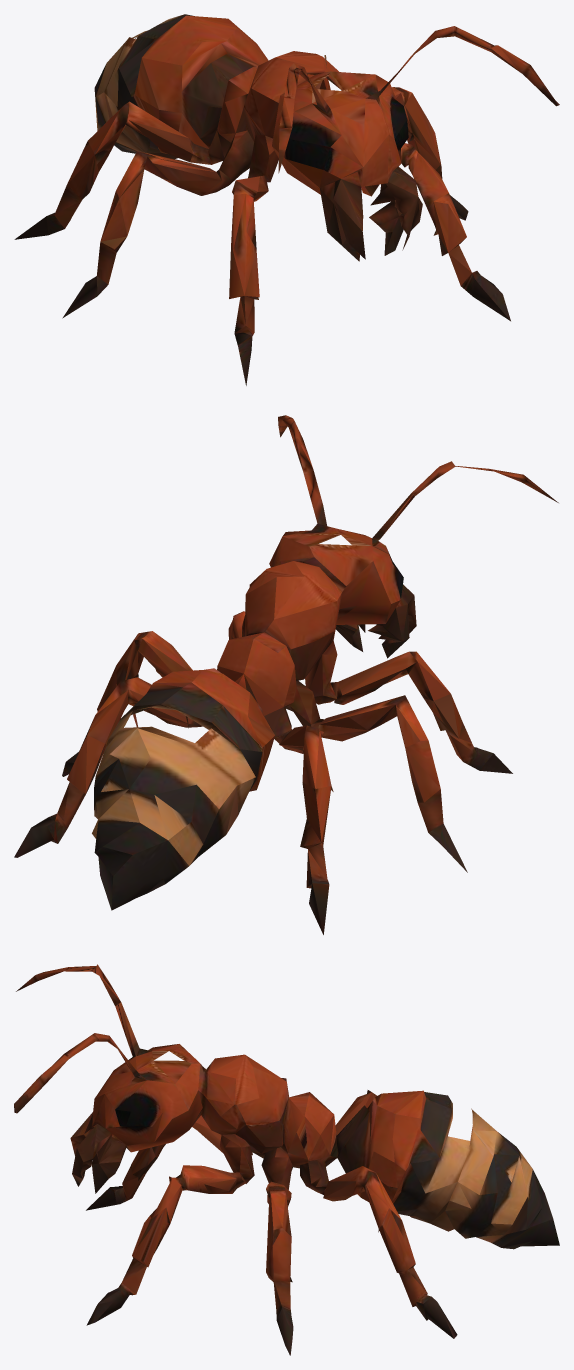
The model's file is bug_ant.glb.
3 views of the same model, one above another, from view 1: azimuth 30°, elevation 25°; view 2: azimuth 150°, elevation 25°; view 3: azimuth 270°, elevation 25° (orthographic). The views are drawn at different scales.
Visible parts, largest first — view 1: bug; view 2: bug; view 3: bug.
Boxes of the visible parts, x1,y1,x2,y2 form: bug: [14, 14, 559, 385]; bug: [14, 415, 558, 934]; bug: [14, 964, 559, 1355].
Size of the model in its own units: 1.44 by 1.05 by 1.9.
Materials: 1 (1 with a texture image).
